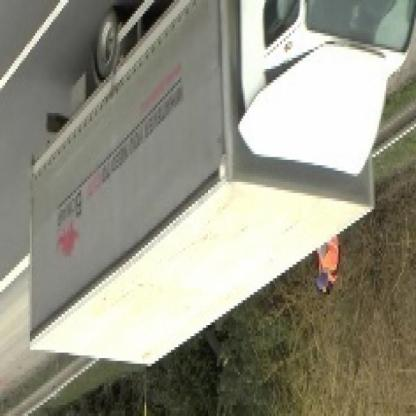truck: (30, 4, 416, 376)
